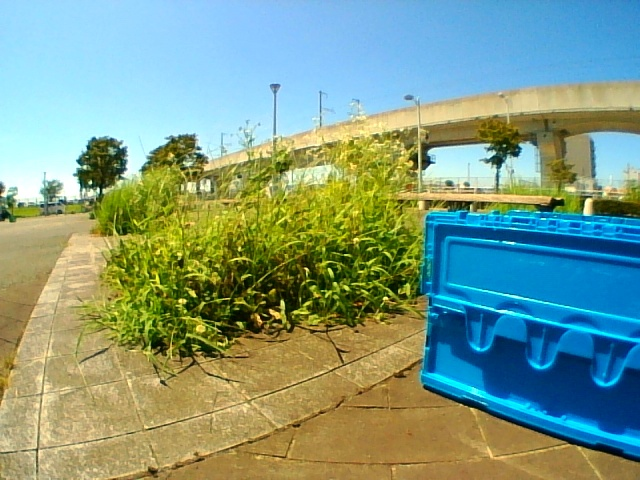blue_box: (426, 219, 640, 386)
